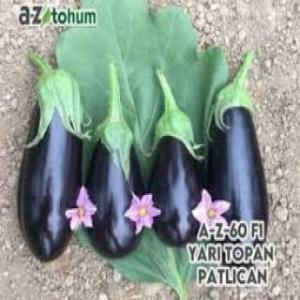eggplant: (16, 68, 82, 262), (84, 114, 144, 254), (150, 106, 202, 246)
